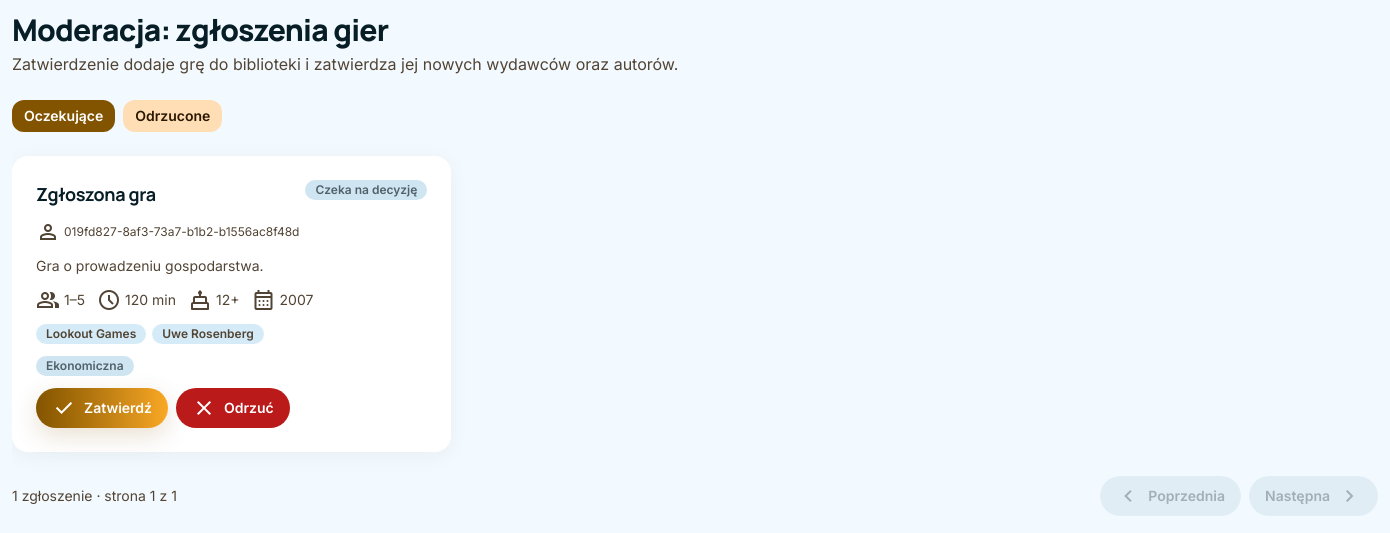
Test case: GameModerationPage › zatwierdzenie pokazuje skutek na karcie i zabiera akcje decyzyjne
Click the button "Zatwierdź". click: coordinates (102, 408)
box: 36,388 -> 168,428
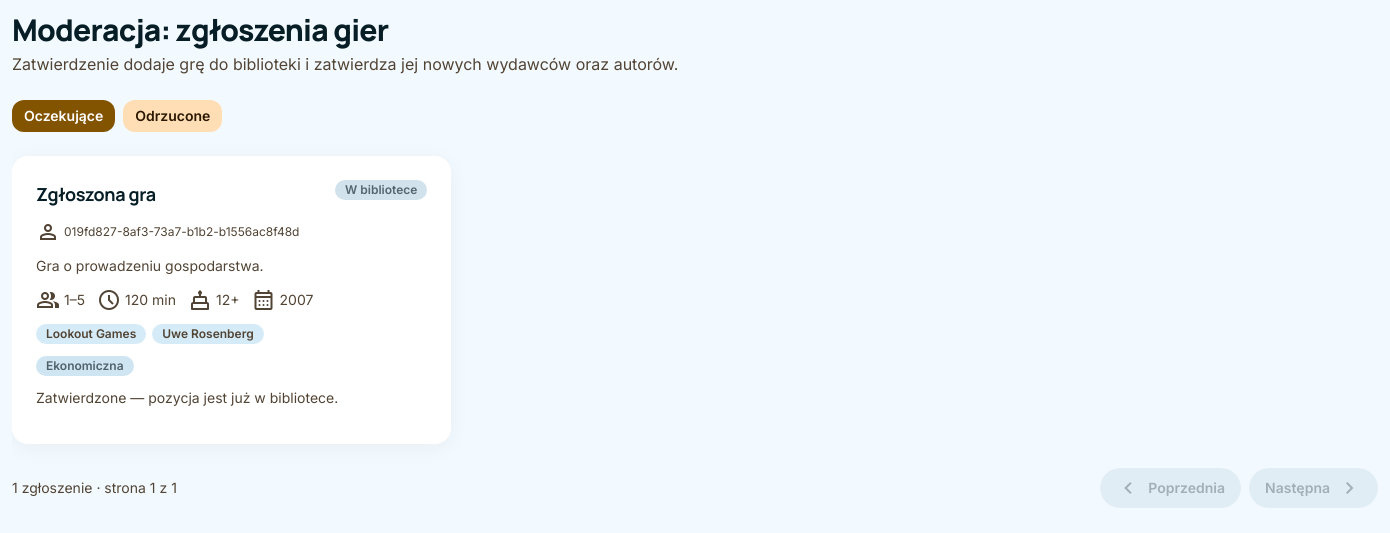
Check: the text "Zatwierdzone — pozycja jest już w bibliotece." is shown, box 36,389 -> 338,406
Check: the button "Zatwierdź" is gone
